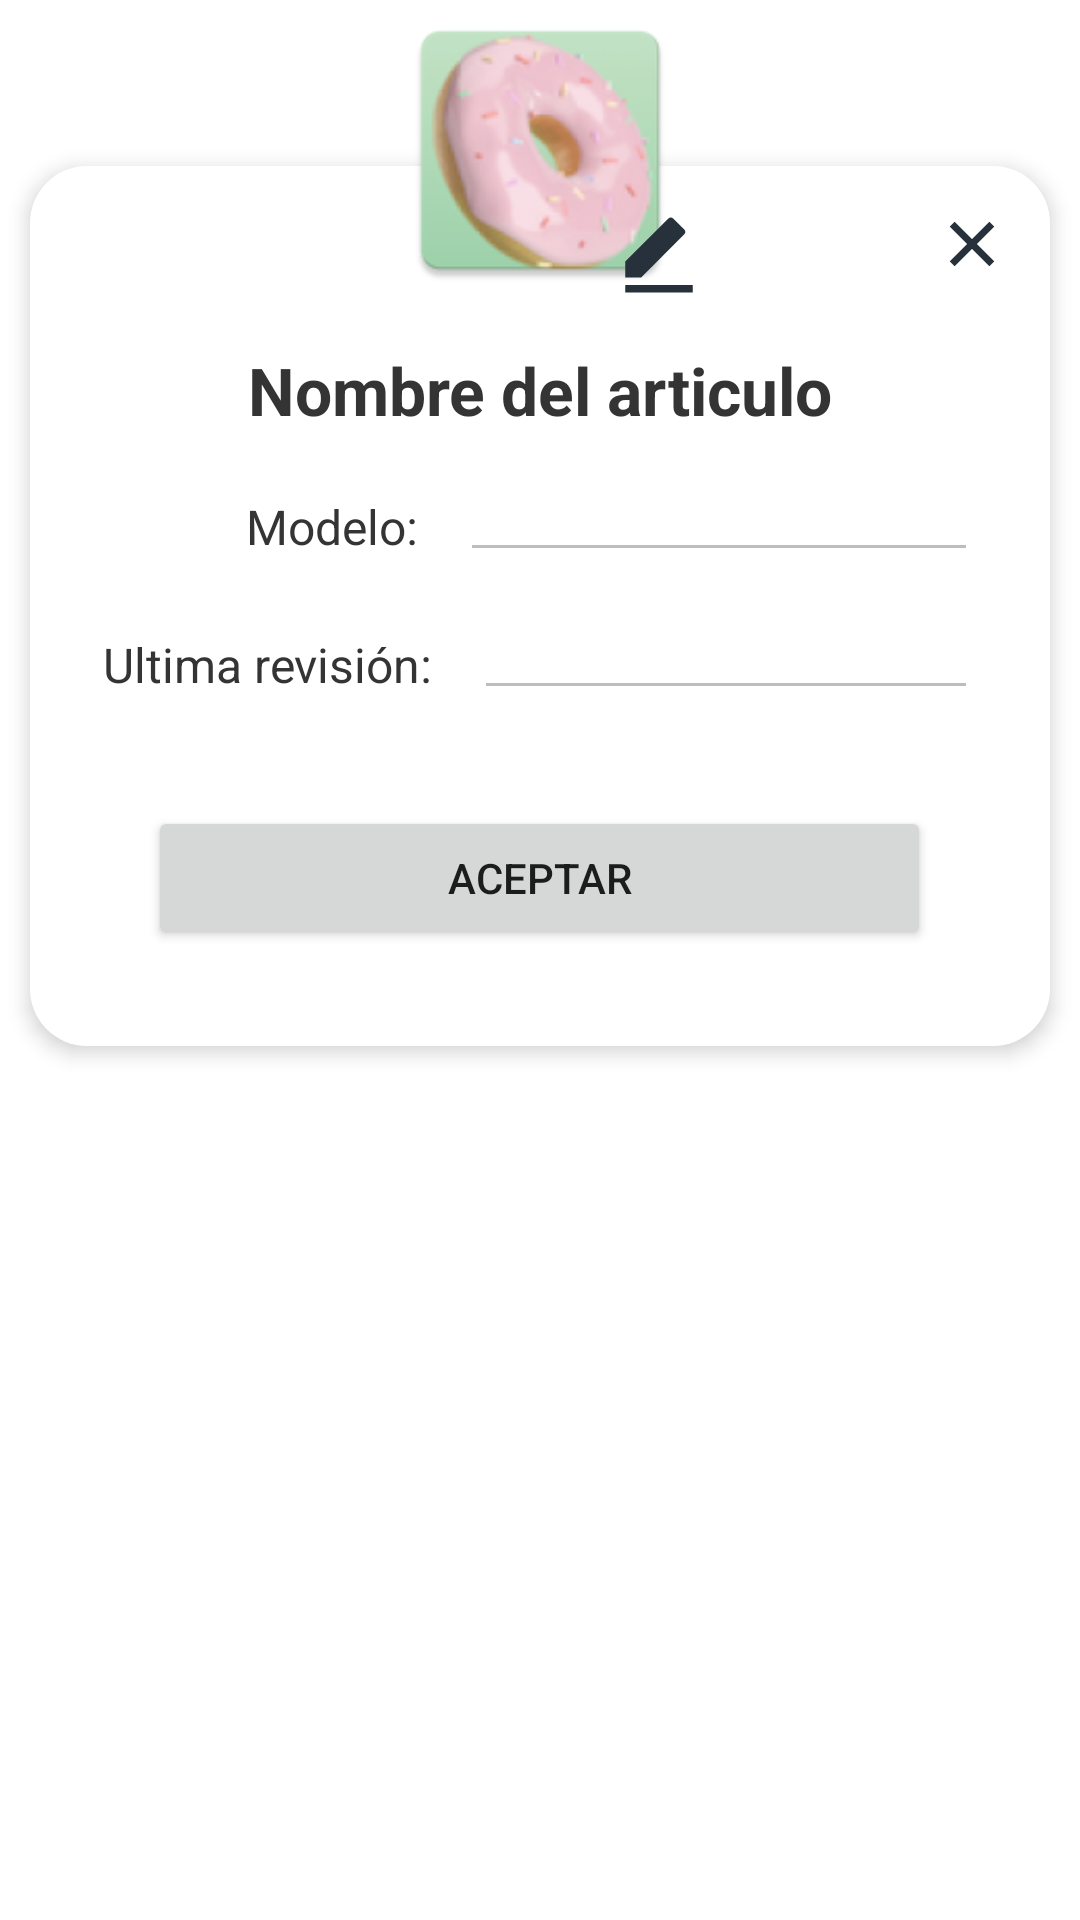

Locate icon controls on the screen. Image size 1080 × 1920, boxes as [x1, y1, x2, y2].
close: [950, 222, 994, 266]
